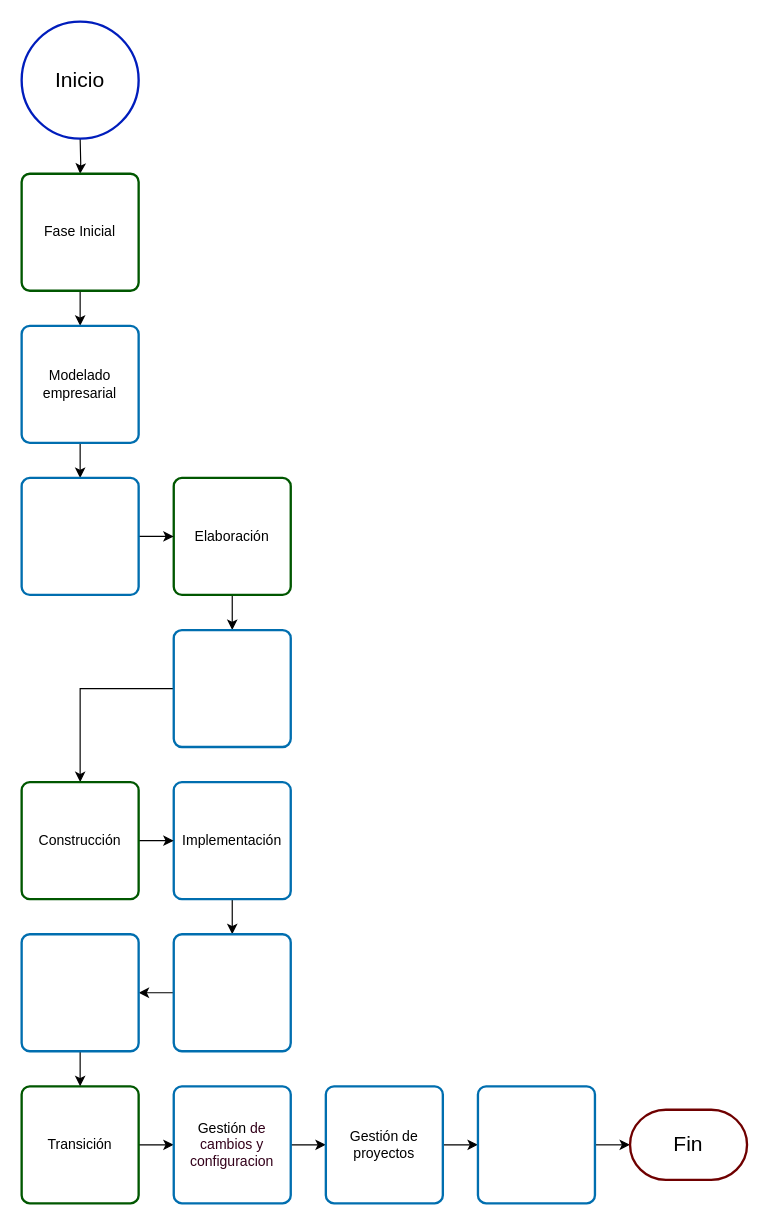
Some shapes in this 768 by 1224 pixel diagram are drawn without their labels. The shapes that lost their labels are listed below. From the top down, each one's centre as x and y in pixels, then its label:
(x=79, y=536): Requisitos
(x=231, y=688): Analisis y diseño
(x=79, y=992): Despliegue
(x=231, y=992): Prueba
(x=536, y=1144): Entorno
